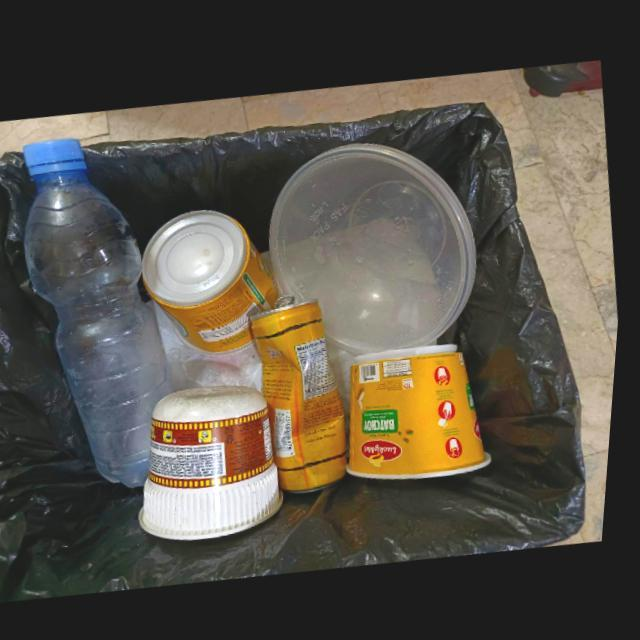metal: (254, 300, 355, 494)
plastic: (26, 135, 178, 487), (272, 141, 481, 354), (146, 384, 292, 543), (145, 208, 283, 358), (352, 340, 499, 479)
